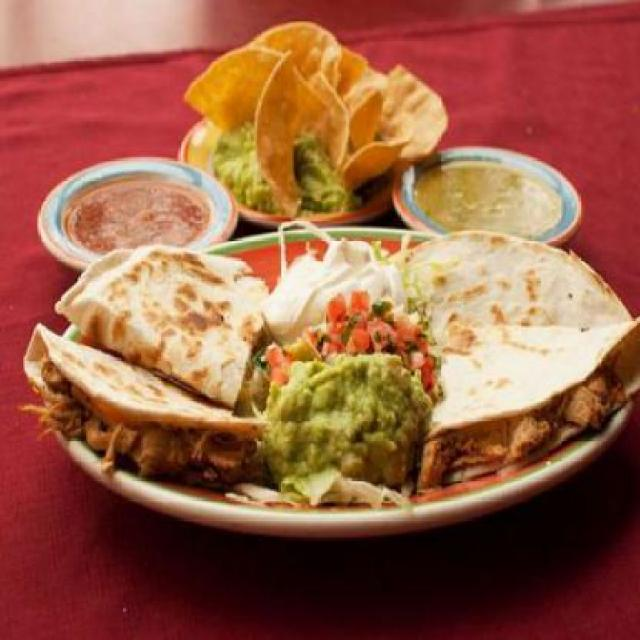chicken quesadilla: (392, 227, 638, 499), (18, 247, 276, 498)
guacamole: (258, 344, 430, 490), (212, 119, 351, 215)
nachos: (173, 23, 458, 179)
